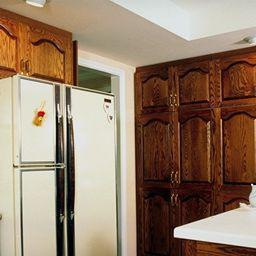Armario: (137, 68, 215, 215), (217, 61, 251, 203)
Electrodomestico: (10, 77, 118, 255)
